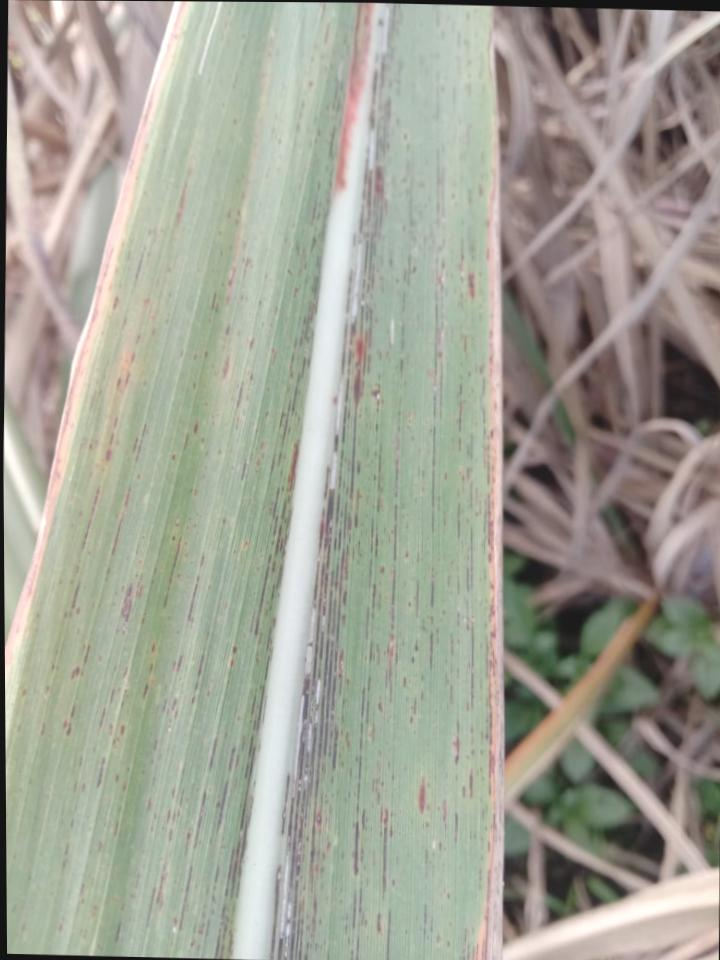RedRot: (335, 3, 375, 197)
Rust: (7, 2, 357, 958), (271, 43, 502, 960)
Yellow: (5, 1, 204, 710), (458, 165, 501, 960)
